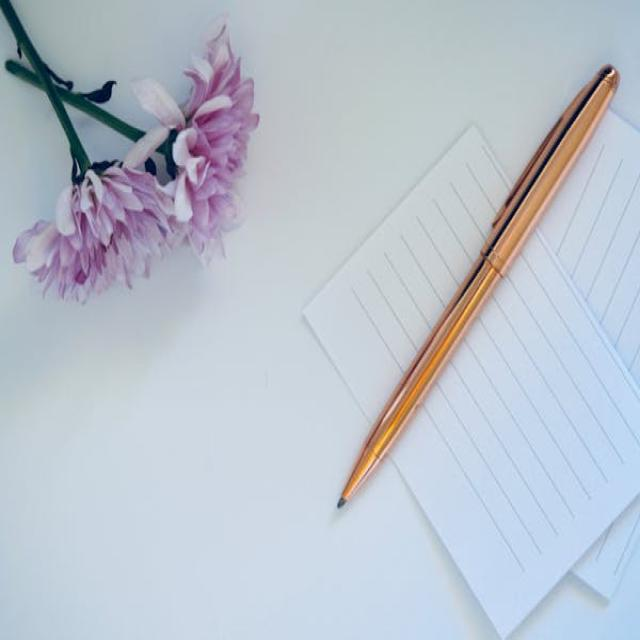pen: (309, 35, 639, 528)
